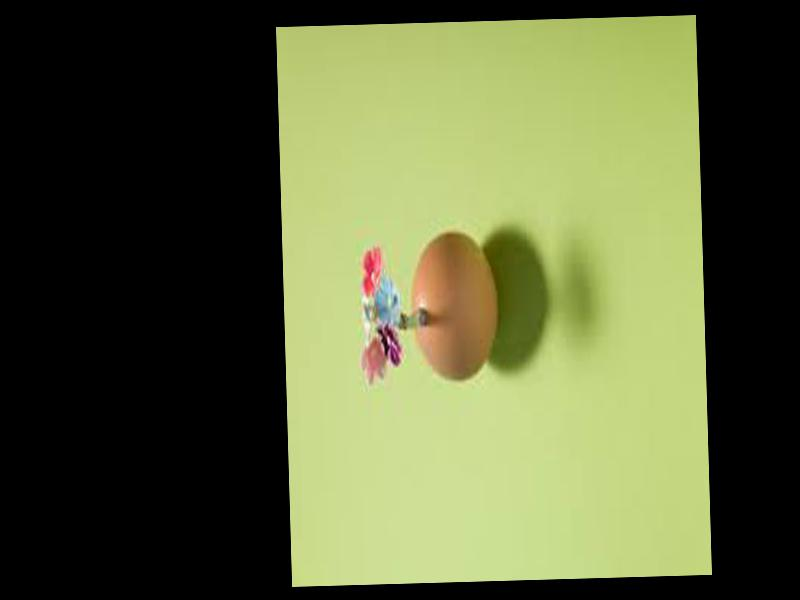Eggs: (410, 232, 500, 381)
